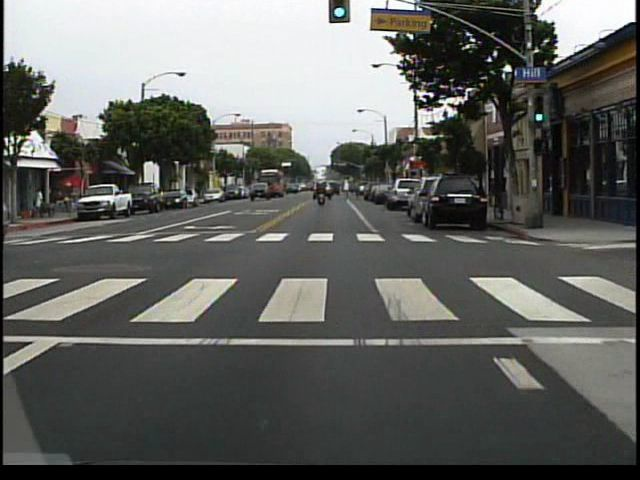person: (35, 183, 49, 220), (315, 184, 328, 211)
